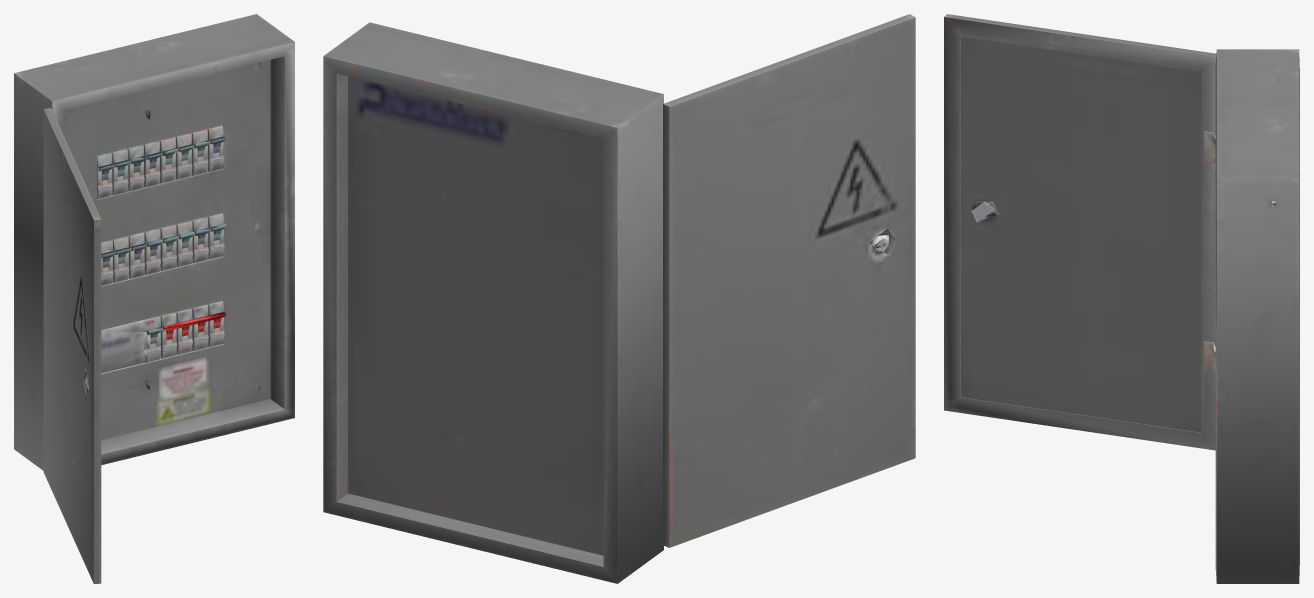
Rendered from powerBox_lo.glb.
3 renders of one model, left to right at view 1: azimuth 30°, elevation 25°; view 2: azimuth 150°, elevation 25°; view 3: azimuth 270°, elevation 25°, orthographic. The views are drawn at different scales.
Parts seen in each view (by area): view 1: power_box_01_box, power_box_01_door; view 2: power_box_01_box, power_box_01_door; view 3: power_box_01_door, power_box_01_box.
Part boxes in pixels (x1,y1,x2,y2): power_box_01_box: (14,14,294,470); power_box_01_door: (43,108,101,583); power_box_01_box: (323,22,663,583); power_box_01_door: (663,14,915,547); power_box_01_door: (944,14,1216,450); power_box_01_box: (1215,49,1299,583).
Size of the model in its own units: 0.4608 by 0.5031 by 0.399.
1 material, 1 textured.
